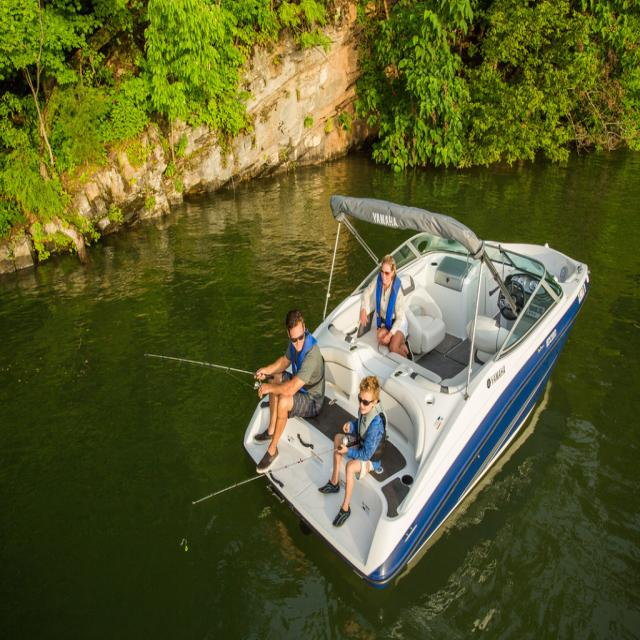Boat: (262, 181, 606, 570)
